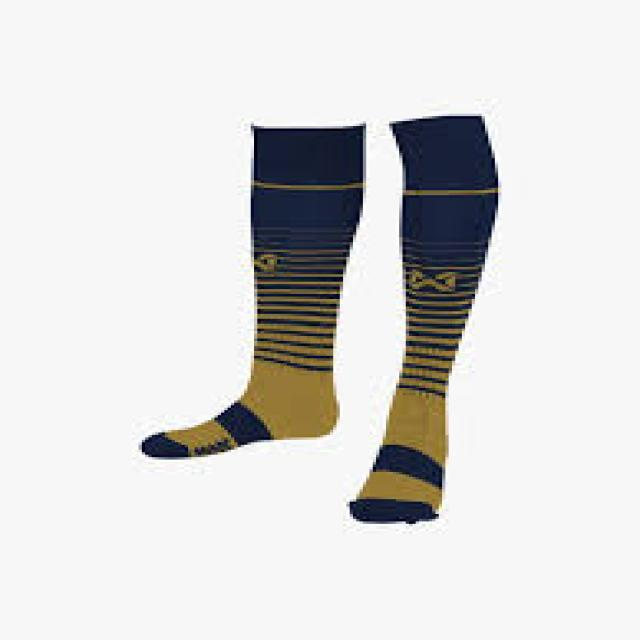sock: (139, 121, 366, 457), (346, 111, 498, 524)
